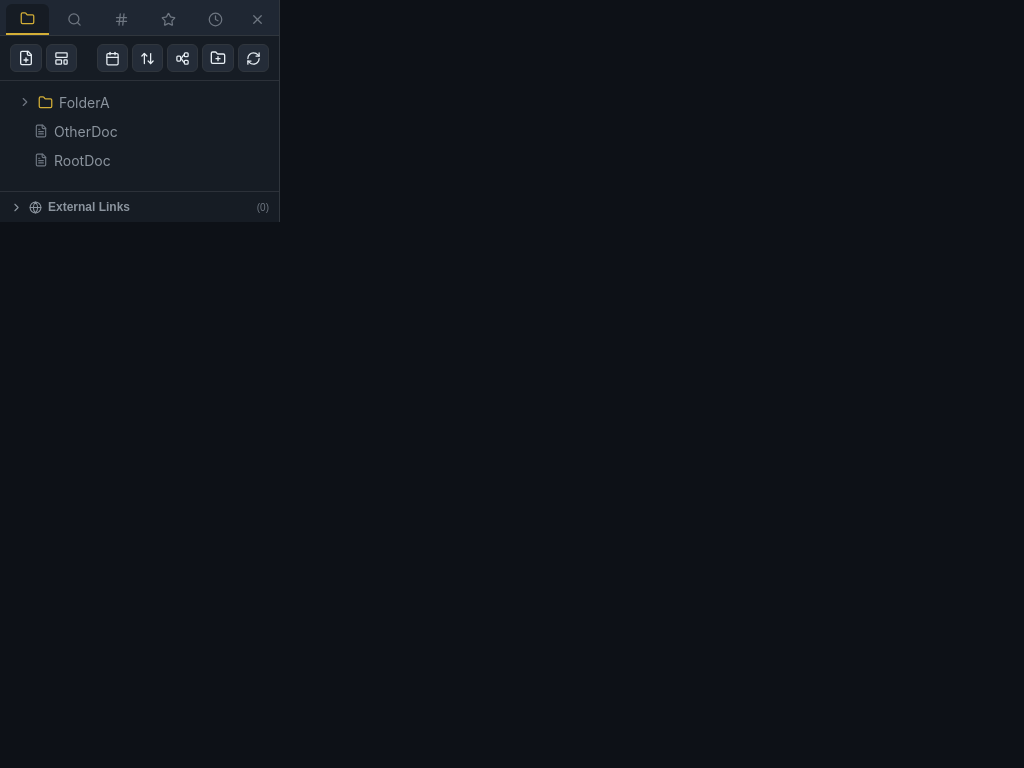
Scenario: FileSidebar Multi-Select & Selection Logic › 1. clicking a folder toggles expansion and NEVER selects child files
Expected: the text "FolderA" is shown, [59,94,110,110]
# Normal click to expand folder
Click the element with class "tree-label" at x=64, y=102, box [18,94,110,110]
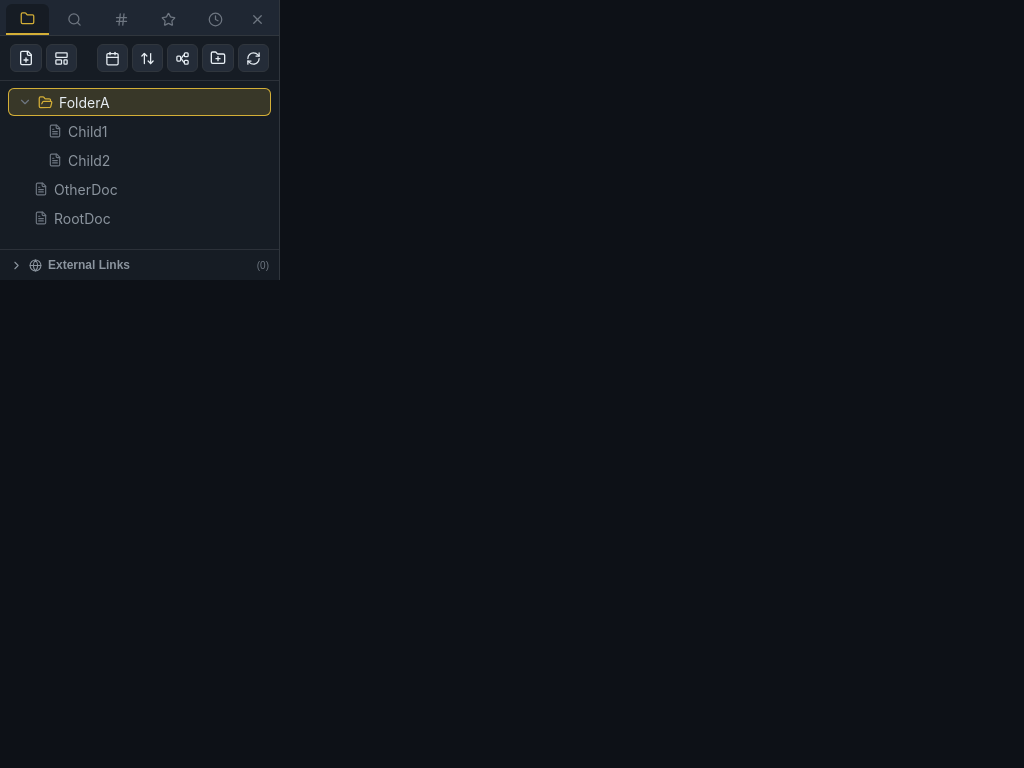
Result: the text "Child1" is shown at [68,122,108,140]
Result: the text "Child2" is shown at [68,152,110,168]
